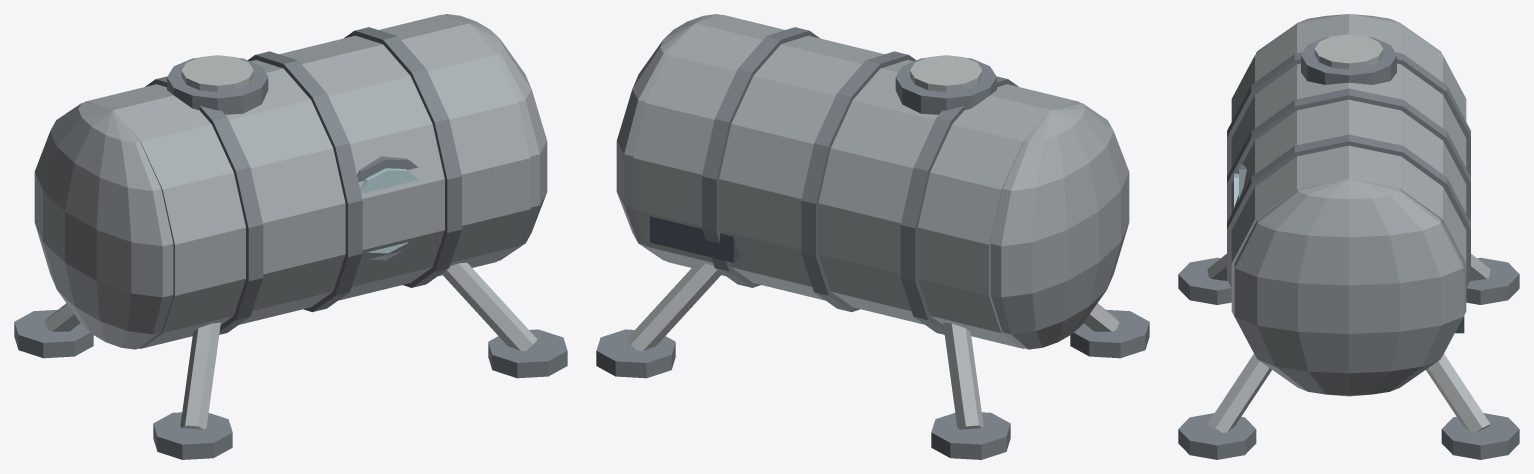
3 renders of one model, left to right at view 1: azimuth 30°, elevation 25°; view 2: azimuth 150°, elevation 25°; view 3: azimuth 270°, elevation 25°, orthographic. The views are drawn at different scales.
Parts seen in each view (by area): view 1: sea_research_pod; view 2: sea_research_pod; view 3: sea_research_pod.
Boxes of the visible parts, x1,y1,x2,y2 form: sea_research_pod: (14, 14, 567, 459); sea_research_pod: (596, 14, 1149, 459); sea_research_pod: (1178, 14, 1519, 459).
Size of the model in its own units: 4.32 by 2.73 by 2.98.
